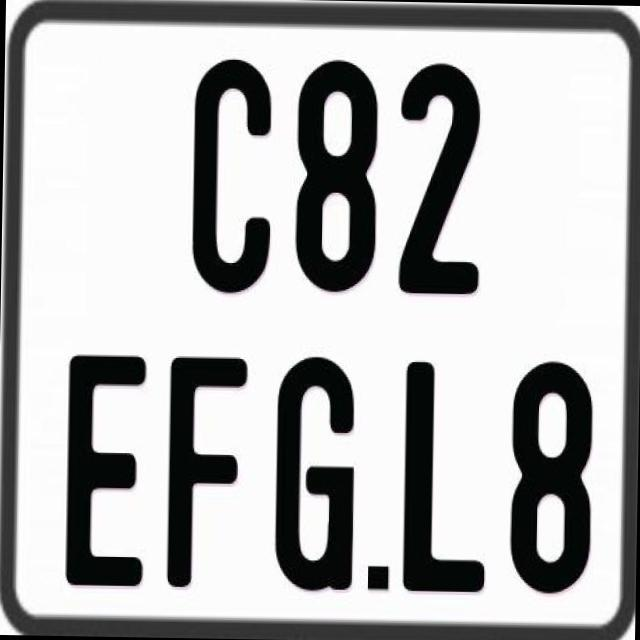2: (398, 60, 483, 298)
8: (506, 360, 598, 596), (290, 57, 379, 295)
C: (191, 56, 277, 292)
E: (65, 352, 153, 592)
F: (166, 351, 248, 584)
G: (274, 353, 356, 589)
L: (401, 360, 493, 590)
